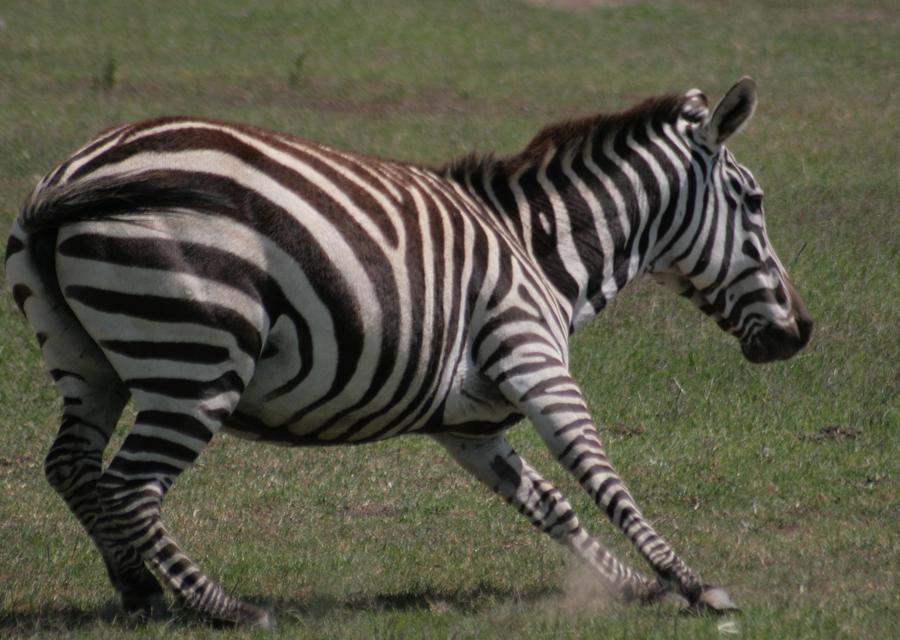zebra_plains: (116, 148, 520, 433)
